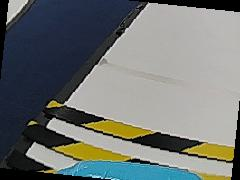bump: (11, 103, 233, 170)
